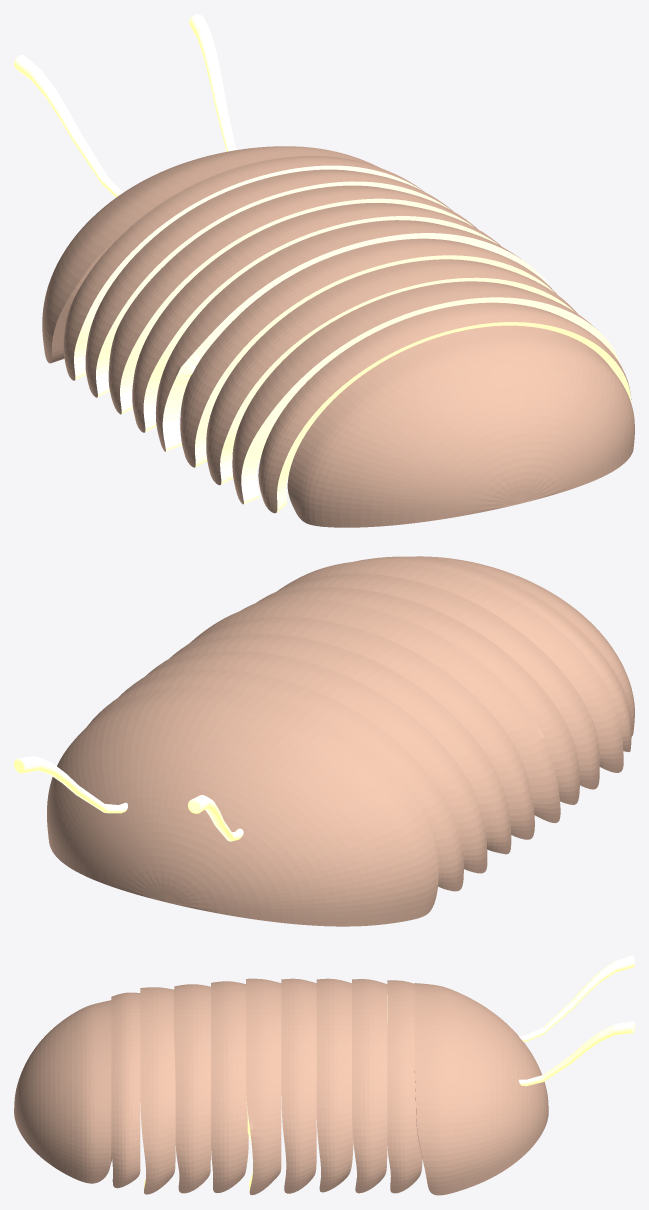
Rendered from pill-CsekMRy5.glb.
3 views of the same model, one above another, from view 1: azimuth 30°, elevation 25°; view 2: azimuth 150°, elevation 25°; view 3: azimuth 270°, elevation 25° (orthographic). The views are drawn at different scales.
Parts seen in each view (by area): view 1: pill, antenna_1, antenna_2; view 2: pill, antenna_2, antenna_1; view 3: pill, antenna_1, antenna_2.
Part boxes in pixels (x1,y1,x2,y2): pill: [42, 146, 634, 527]; antenna_1: [14, 55, 122, 197]; antenna_2: [189, 14, 235, 151]; pill: [47, 556, 634, 926]; antenna_2: [14, 756, 127, 813]; antenna_1: [188, 795, 243, 841]; pill: [14, 978, 548, 1195]; antenna_1: [519, 955, 634, 1041]; antenna_2: [518, 1021, 634, 1086].
Size of the model in its own units: 2.4 by 1.09 by 4.37.
